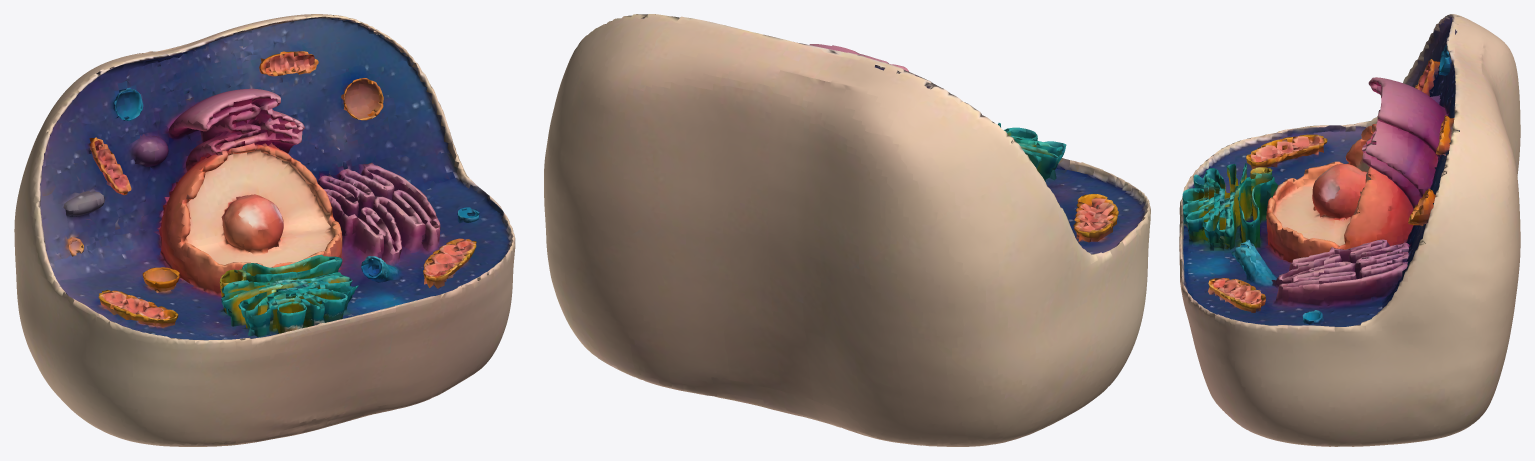
Rendered from cells-lite.glb.
3 renders of one model, left to right at view 1: azimuth 30°, elevation 25°; view 2: azimuth 150°, elevation 25°; view 3: azimuth 270°, elevation 25°, orthographic. The views are drawn at different scales.
Visible parts, largest first — view 1: stylized_cell_node; view 2: stylized_cell_node; view 3: stylized_cell_node.
Part boxes in pixels (x1,y1,x2,y2): stylized_cell_node: [14, 14, 515, 446]; stylized_cell_node: [544, 14, 1150, 446]; stylized_cell_node: [1179, 14, 1520, 446].
Bounding box in the file's own units: 0.9796 × 0.6763 × 0.6939.
Materials: 1 (1 with a texture image).
